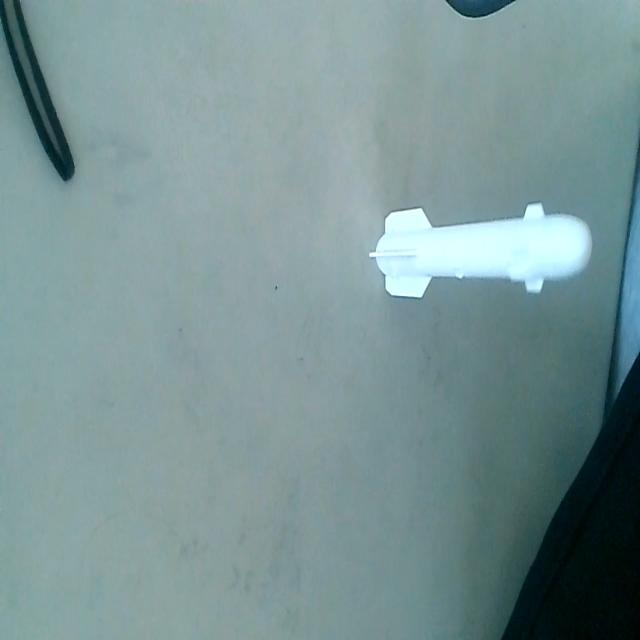Rocket: (371, 199, 596, 307)
